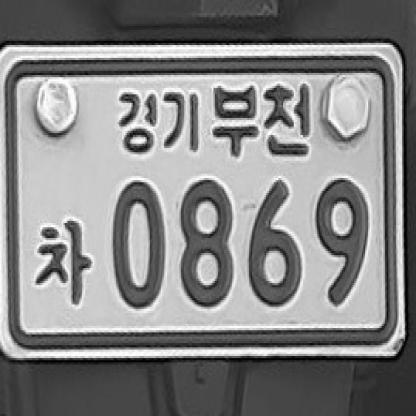bnum: (0, 39, 409, 362)
